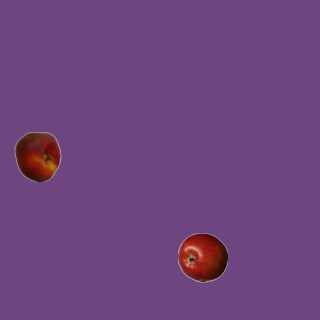Apple Braeburn: (177, 232, 227, 282)
Nectarine Flat: (12, 131, 62, 181)
